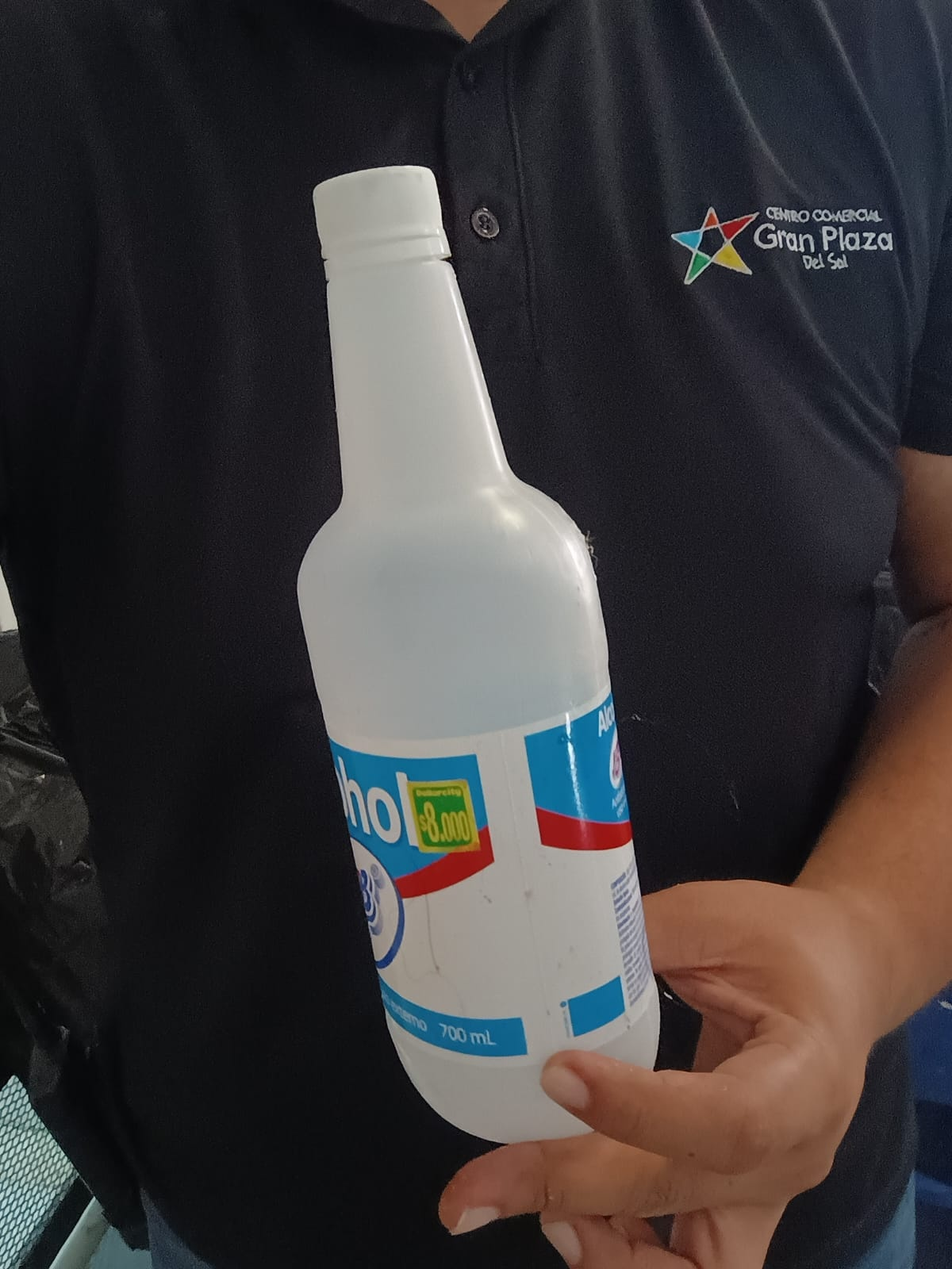Plastico: (296, 165, 664, 1142)
